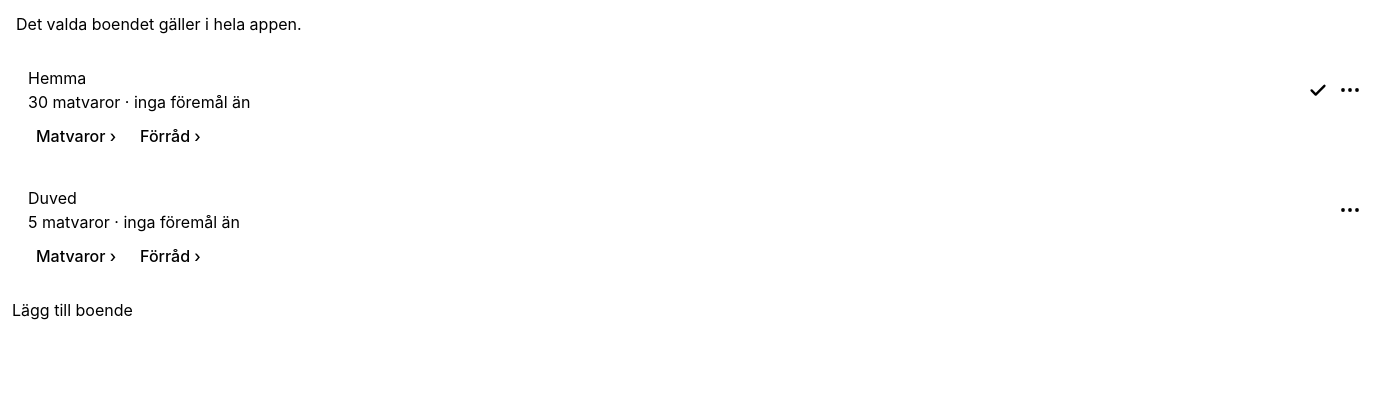
HousingSettings › stays where it is when the selection fails
Click the button with aria-label "Förråd i Duved".
click(170, 256)  # box [132,244,209,268]
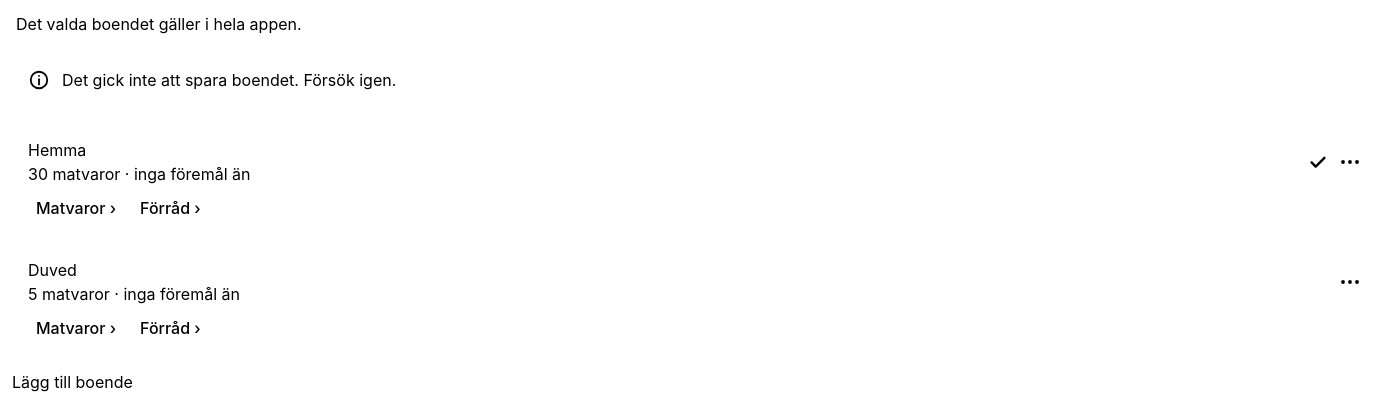
Expected: the message shows "Det gick inte att spara boendet", [62,70,396,90]
